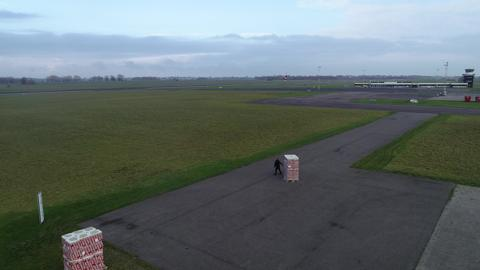RockwoolPallet: (63, 227, 104, 268)
